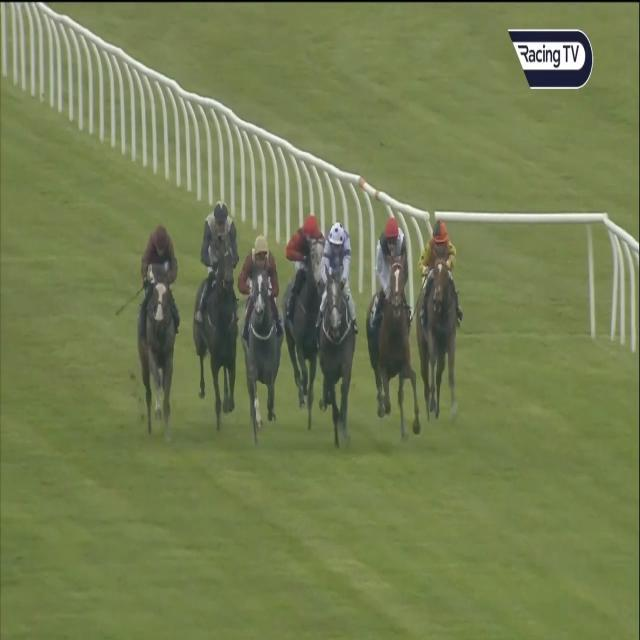horses-racing: (366, 216, 419, 444), (187, 199, 240, 426), (418, 216, 458, 434), (241, 238, 284, 430), (137, 227, 176, 438), (286, 209, 324, 420), (322, 216, 353, 452)
